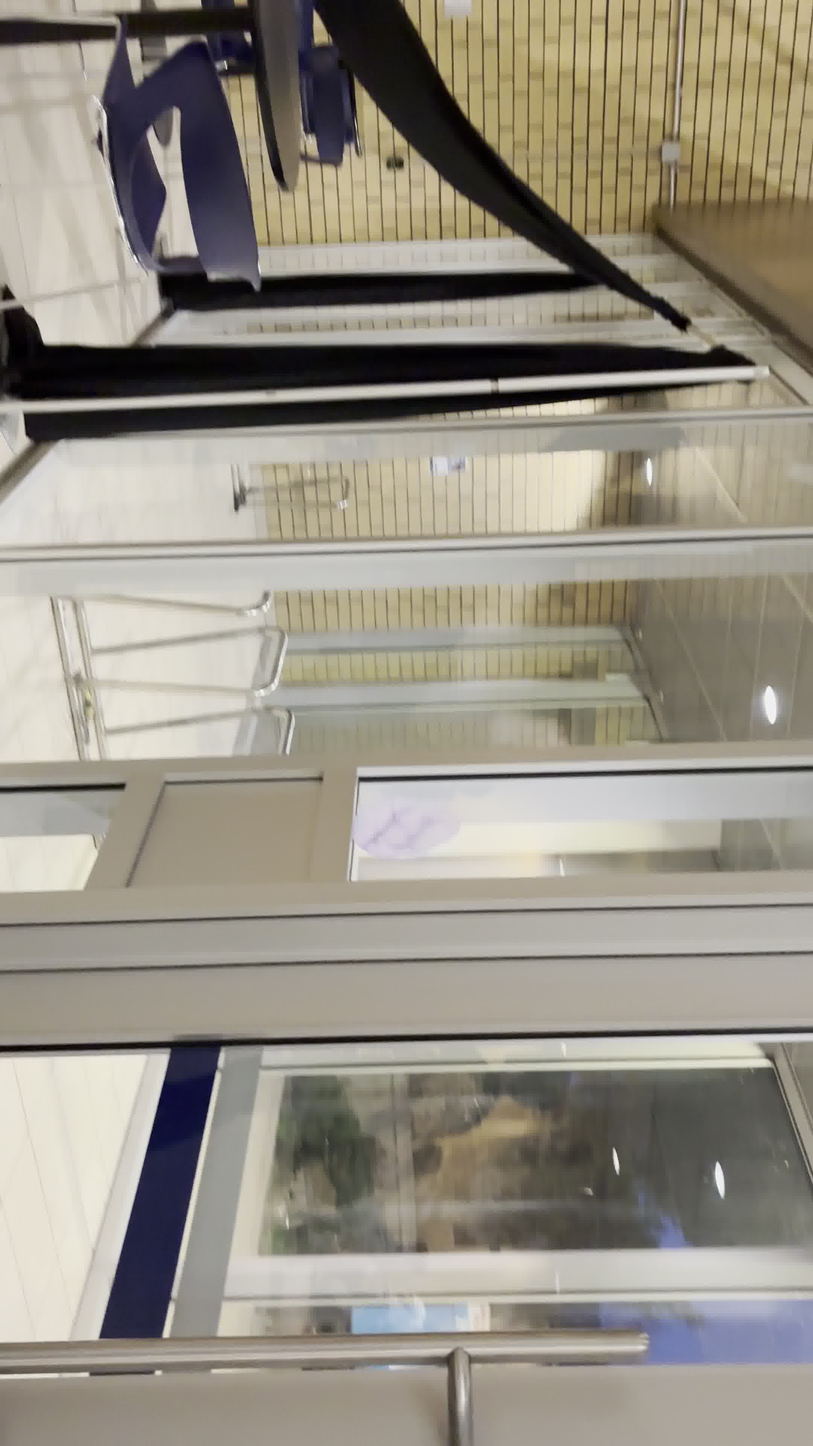Target: (349, 795, 464, 861)
